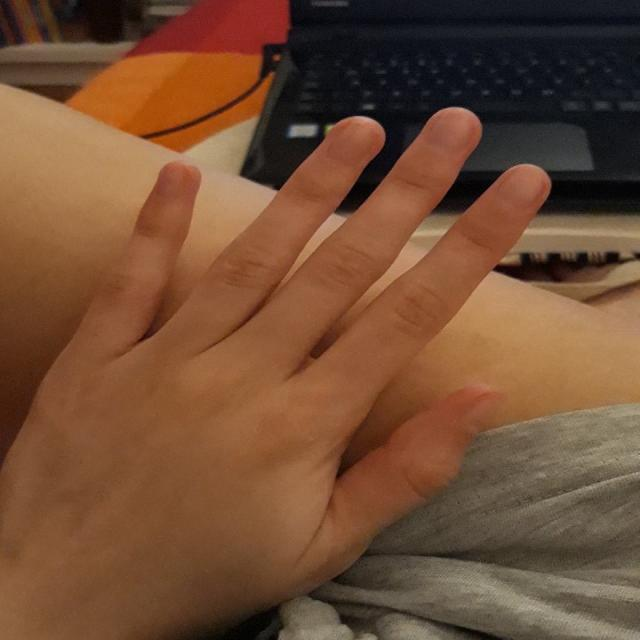bare_hand: (0, 107, 552, 640)
